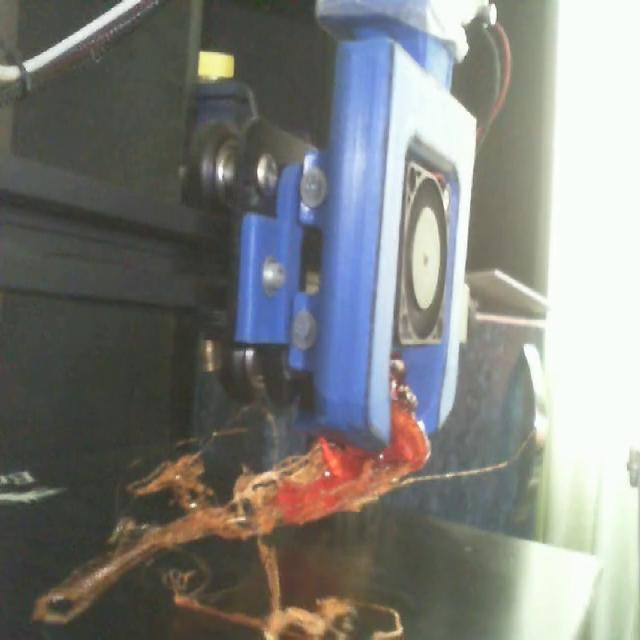spaghetti: (32, 355, 430, 638), (34, 385, 430, 624)
